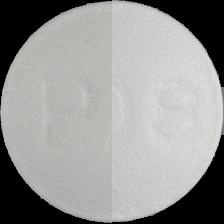10544-210: (0, 0, 224, 224)
